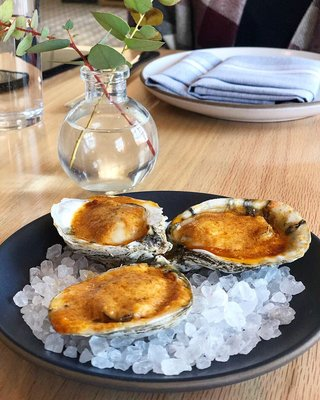pizza: (0, 44, 45, 130)
soup: (166, 198, 312, 268)
